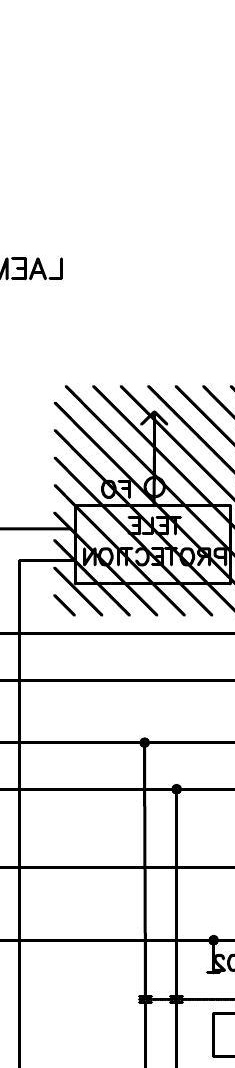tele_protection: (71, 501, 235, 588)
